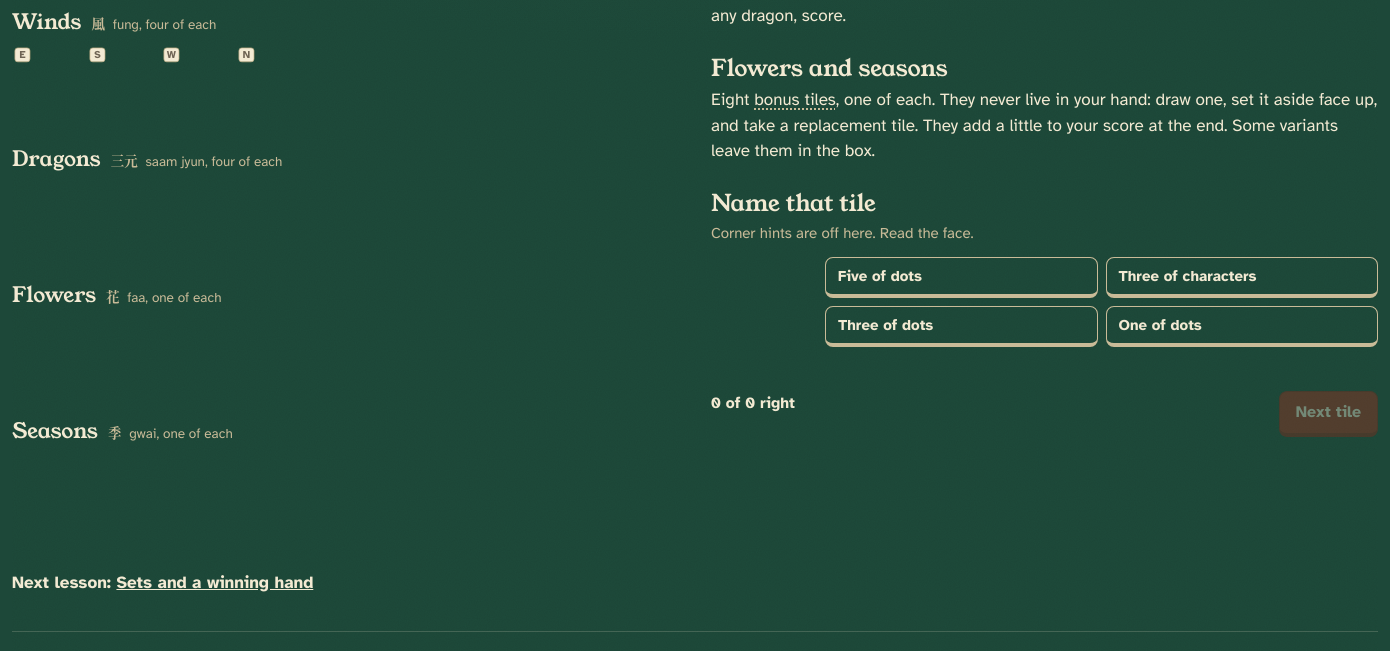
Test: Primer › shows the tiles lesson and answers its quiz
This screenshot has width=1390, height=651.
(page scrolled)
Click the button "Five of dots" at coordinates (880, 276), box [825, 257, 1098, 298]
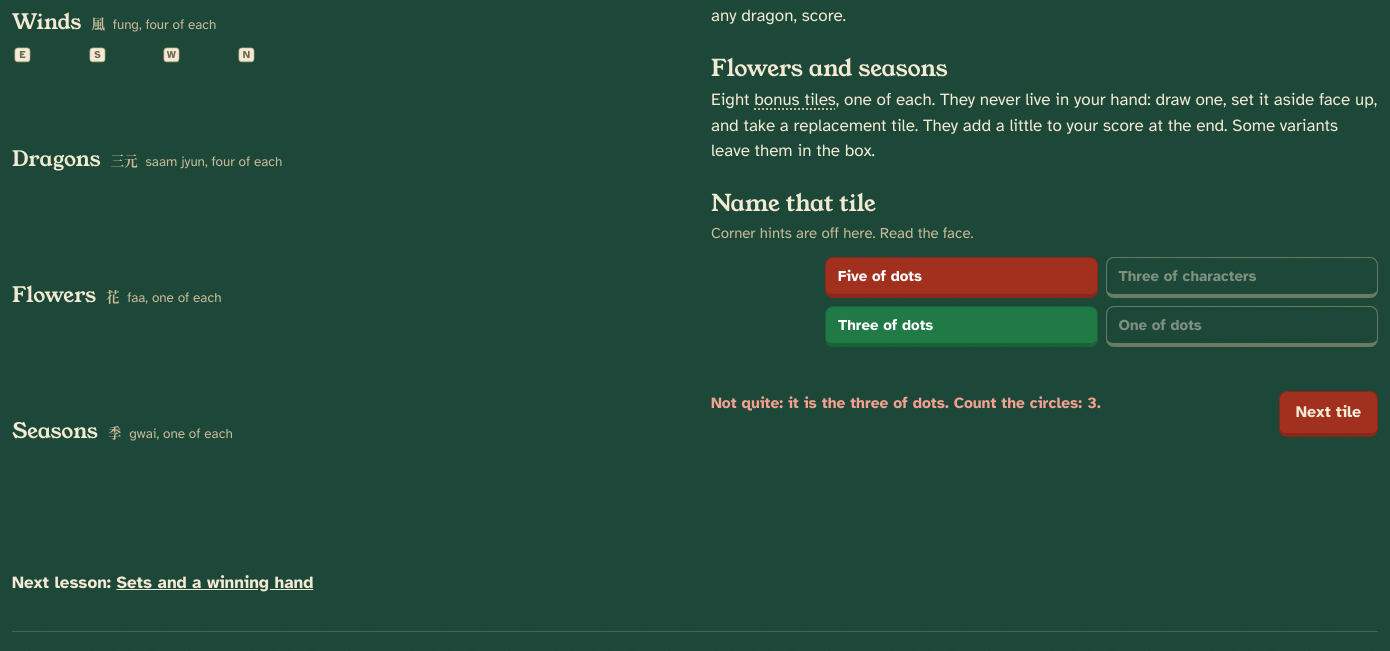
Expected: the text "Not quite: it is the three of dots. Count the circles: 3." is shown, [711, 393, 1101, 412]
Expected: the button "Next tile" is enabled, [1279, 391, 1378, 437]
